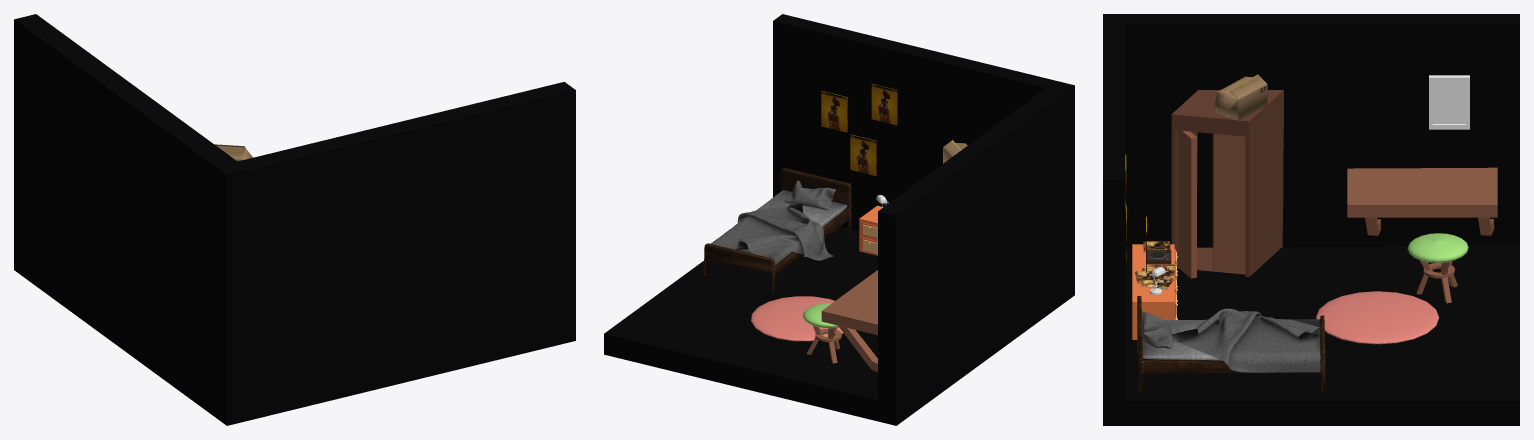
The model's file is V6_newRoom-transformed.glb.
3 renders of one model, left to right at view 1: azimuth 30°, elevation 25°; view 2: azimuth 150°, elevation 25°; view 3: azimuth 270°, elevation 25°, orthographic. The views are drawn at different scales.
Visible parts, largest first — view 1: HOUSE:House.002; view 2: HOUSE:House.002, bed, table, mat, chair, Cube, Cube.002, Cube.001, kast; view 3: HOUSE:House.002, kast.001, bed, table, mat, chair, pCube77, kast, Box_Box_Material_0.
Part boxes in pixels (<box>): HOUSE:House.002: <box>14,14,575,425</box>; HOUSE:House.002: <box>604,14,1074,425</box>; bed: <box>704,168,851,292</box>; table: <box>821,270,877,372</box>; mat: <box>751,296,843,341</box>; chair: <box>803,303,841,363</box>; Cube: <box>821,91,847,132</box>; Cube.002: <box>850,134,876,175</box>; Cube.001: <box>871,84,897,125</box>; kast: <box>859,205,883,255</box>; HOUSE:House.002: <box>1103,14,1519,425</box>; kast.001: <box>1171,90,1283,278</box>; bed: <box>1137,295,1325,392</box>; table: <box>1347,167,1497,235</box>; mat: <box>1316,291,1439,344</box>; chair: <box>1407,233,1468,303</box>; pCube77: <box>1429,75,1469,129</box>; kast: <box>1132,244,1177,339</box>; Box_Box_Material_0: <box>1214,74,1267,120</box>.
Size of the model in its own units: 0.3973 by 0.2728 by 0.42.
Materials: 17 (7 with a texture image).
